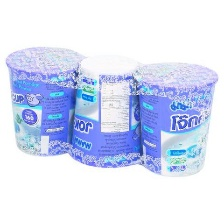paper_cup: (130, 56, 221, 181), (63, 47, 153, 171), (1, 40, 91, 160)
